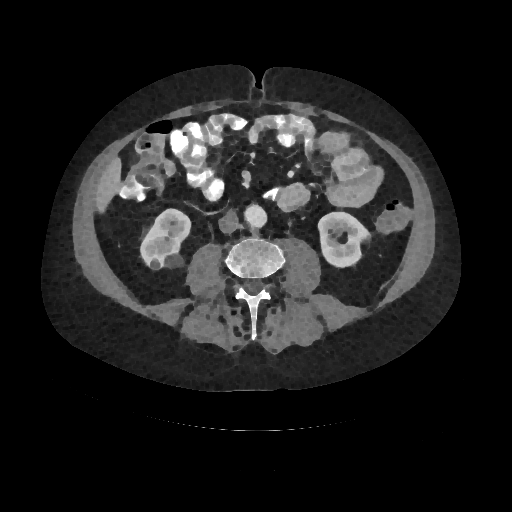Lesion: (160, 248, 188, 274)
